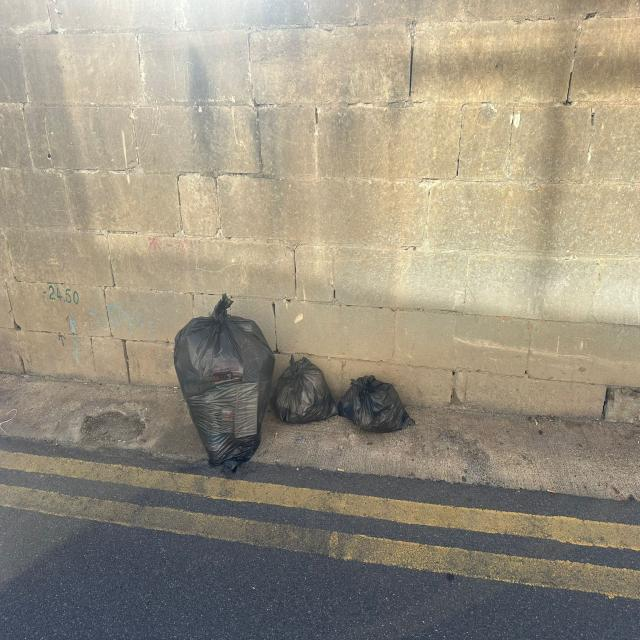black_bag: (171, 291, 277, 472), (336, 370, 420, 436), (273, 356, 339, 426)
